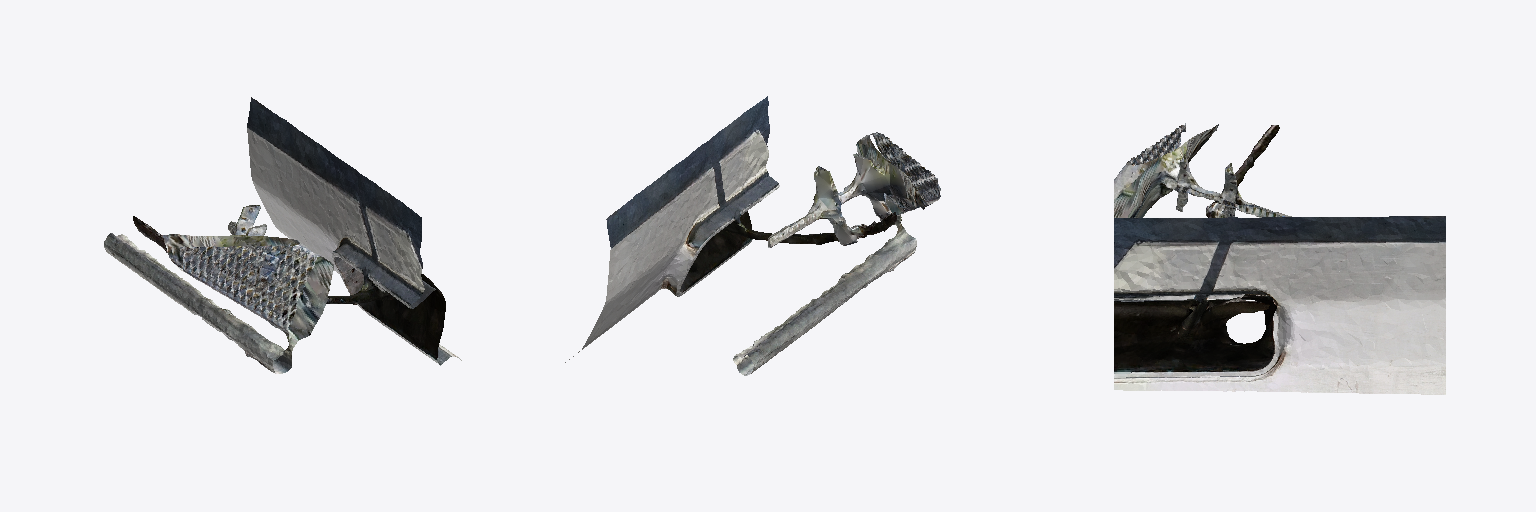
3 renders of one model, left to right at view 1: azimuth 30°, elevation 25°; view 2: azimuth 150°, elevation 25°; view 3: azimuth 270°, elevation 25°, orthographic.
Size of the model in its own units: 1.02 by 0.6257 by 1.2.
2 materials, 1 textured.